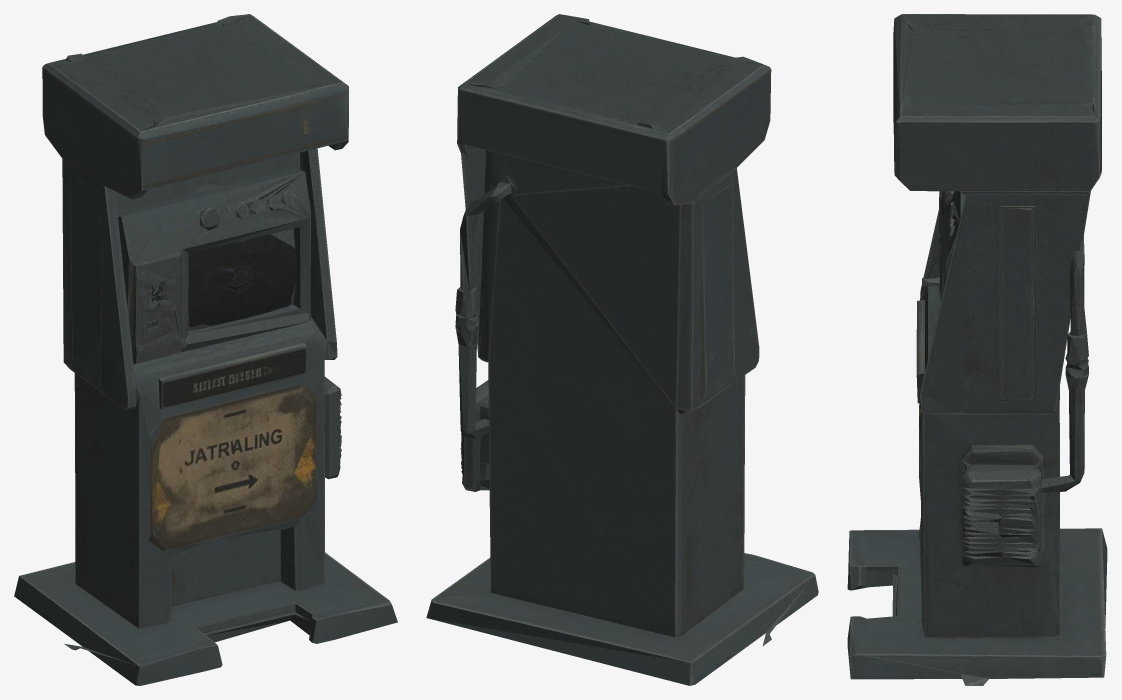
File: control_terminal.glb
3 views of the same model, side by side, from view 1: azimuth 30°, elevation 25°; view 2: azimuth 150°, elevation 25°; view 3: azimuth 270°, elevation 25° (orthographic). The views are drawn at different scales.
Bounding box in the file's own units: 0.8775 × 1.6 × 0.6805.
1 material, 1 textured.
